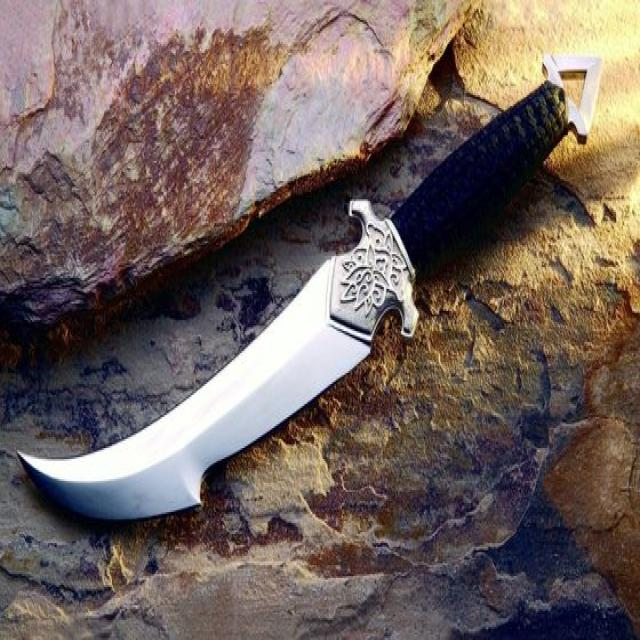knife: (24, 50, 610, 538)
